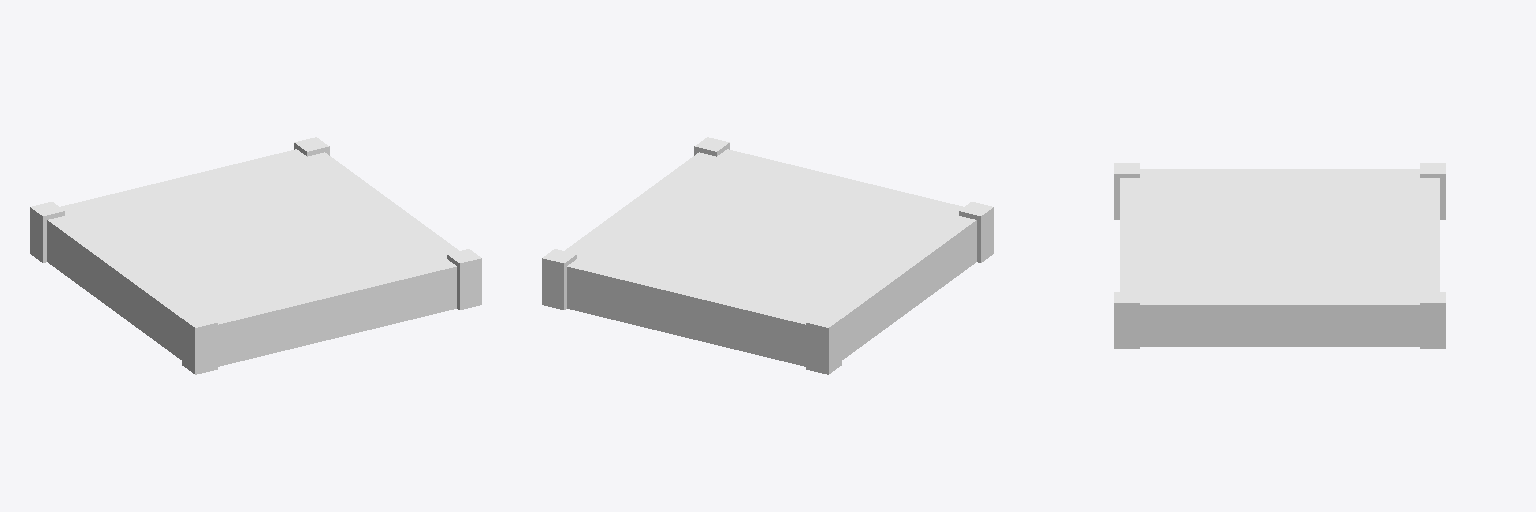
File: OpenFloor.obj
The picture shows the model from 3 angles: view 1: azimuth 30°, elevation 25°; view 2: azimuth 150°, elevation 25°; view 3: azimuth 270°, elevation 25°; orthographic projection.
Size of the model in its own units: 64 by 10 by 64.